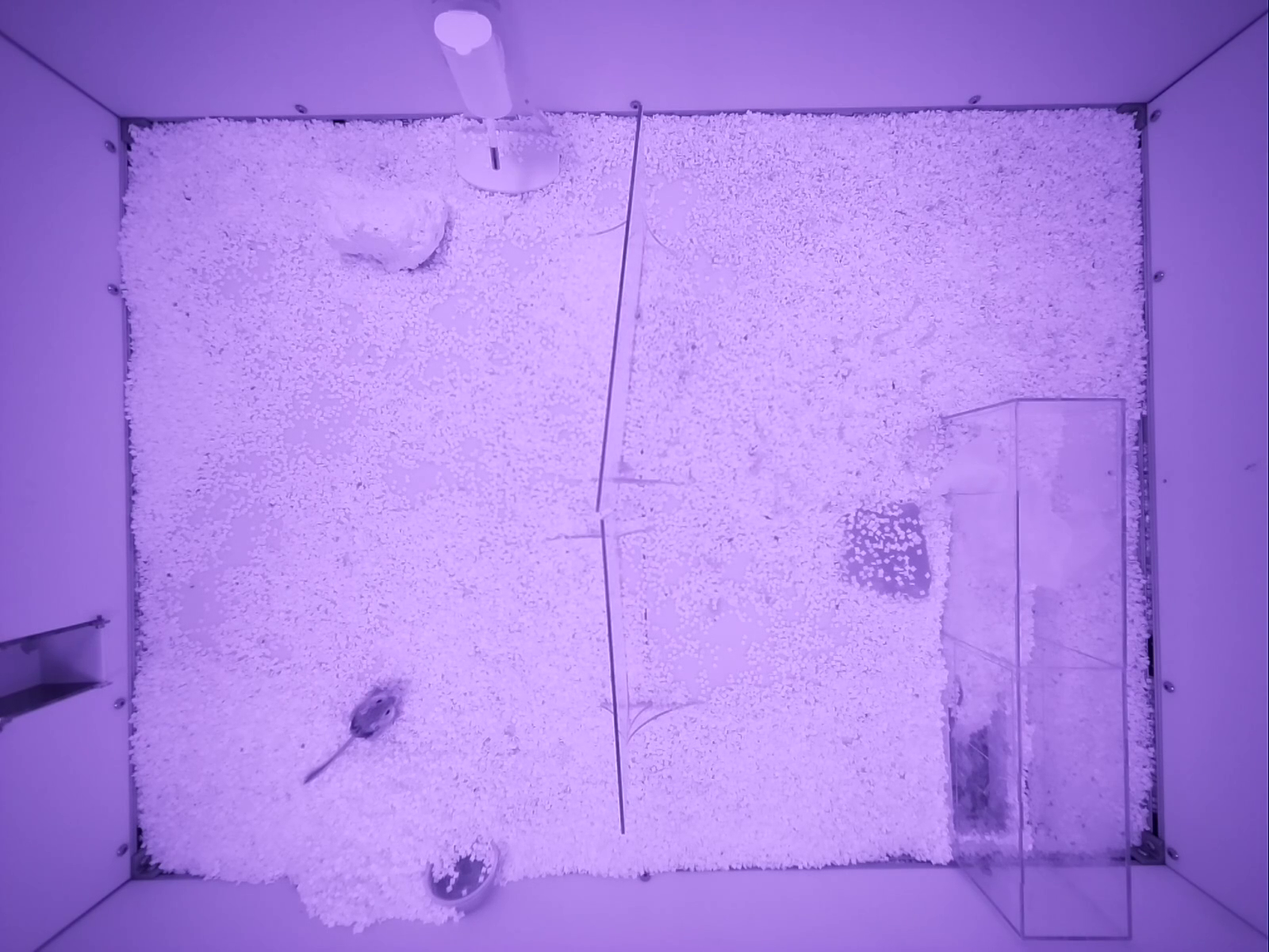adult_back: (304, 681, 405, 783)
